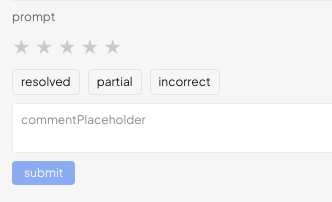
Test case: AgentFeedbackWidget › submit button enables when rating and outcome selected
What coordinates should you click on to do the following:
click the 5th button "★"
I would click on:
 (113, 47)
Its box is [103, 33, 122, 61].
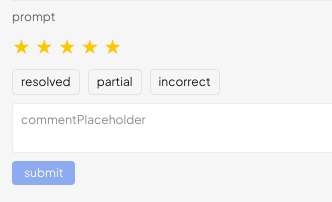
What coordinates should you click on to do the following:
click the button "resolved"
I would click on:
 (46, 82)
Its box is [12, 69, 80, 95].
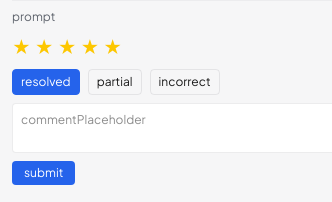
Check: the button "submit" is enabled, box [12, 161, 75, 185]
